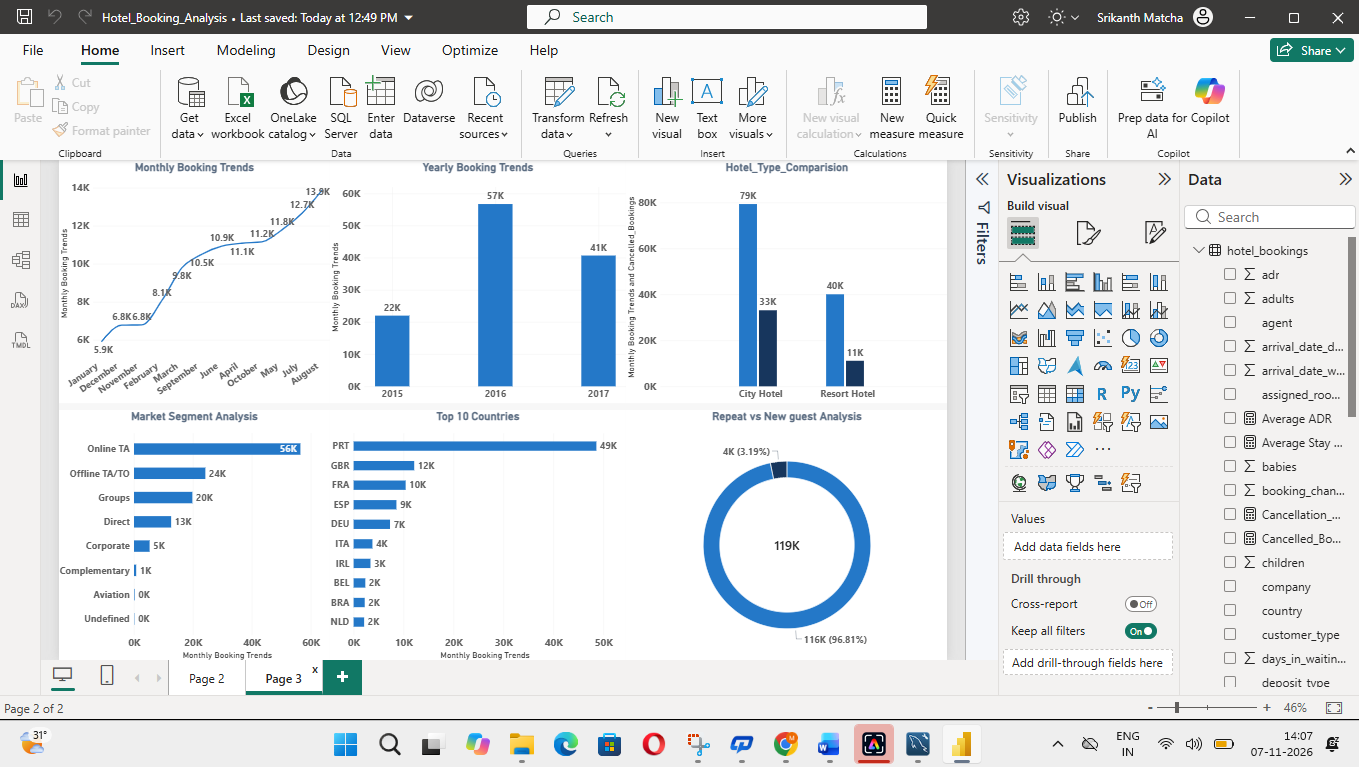

The page's visual inventory and layout, read from the dashboard file:
{"tool":"powerbi","page":{"name":"Page 3","canvas":[1920,1080],"ordinal":1},"visuals":[{"type":"lineChart","title":"Monthly Booking Trends ","fields":{"Category":["hotel_bookings.arrival_date_month"],"Y":["hotel_bookings.Total_Bookings"]},"box":[0,2.2,585.4,522.7],"z":0},{"type":"clusteredColumnChart","title":"Yearly Booking Trends","fields":{"Category":["hotel_bookings.arrival_date_year"],"Y":["hotel_bookings.Total_Bookings"]},"box":[585.4,2.2,639.4,522.7],"z":1000},{"type":"clusteredColumnChart","title":"Hotel_Type_Comparision","fields":{"Category":["hotel_bookings.hotel"],"Y":["hotel_bookings.Total_Bookings","hotel_bookings.Cancelled_Bookings"]},"box":[1224.7,2.2,695.5,522.7],"z":2000},{"type":"clusteredBarChart","title":"Market Segment Analysis","fields":{"Category":["hotel_bookings.market_segment"],"Y":["hotel_bookings.Total_Bookings"]},"box":[0,540,585.4,540],"z":3000},{"type":"clusteredBarChart","title":"Top 10 Countries","fields":{"Category":["hotel_bookings.country"],"Y":["hotel_bookings.Total_Bookings"]},"box":[585.4,540,639.4,540],"z":3001},{"type":"donutChart","title":"Repeat vs New guest Analysis","fields":{"Category":["hotel_bookings.Guest Type"],"Y":["hotel_bookings.Total_Bookings"]},"box":[1224.7,540,695.5,540],"z":3002}]}

Visuals, with their boxes on the page's 1920x1080 design canvas (x1, y1, x2, y2). These are canvas units, not pixel positions in the 1359x767 screenshot, which may show the page scaled, cropped or inside an application window:
"Monthly Booking Trends " lineChart: [x1=0, y1=2, x2=585, y2=525]
"Yearly Booking Trends" clusteredColumnChart: [x1=585, y1=2, x2=1225, y2=525]
"Hotel_Type_Comparision" clusteredColumnChart: [x1=1225, y1=2, x2=1920, y2=525]
"Market Segment Analysis" clusteredBarChart: [x1=0, y1=540, x2=585, y2=1080]
"Top 10 Countries" clusteredBarChart: [x1=585, y1=540, x2=1225, y2=1080]
"Repeat vs New guest Analysis" donutChart: [x1=1225, y1=540, x2=1920, y2=1080]
